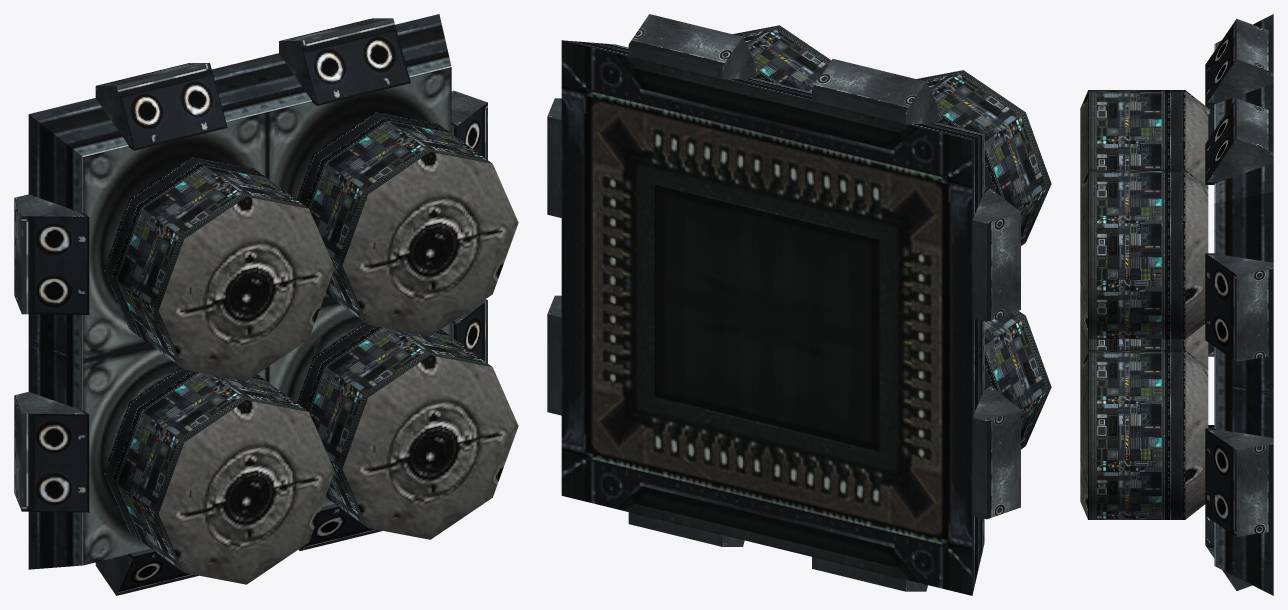
Rendered from Battery_wall_fixture_05.FBX.
3 views of the same model, side by side, from view 1: azimuth 30°, elevation 25°; view 2: azimuth 150°, elevation 25°; view 3: azimuth 270°, elevation 25° (orthographic). The views are drawn at different scales.
Visible parts, largest first — view 1: Battery_wall_fixture_05, Liquid; view 2: Battery_wall_fixture_05, Liquid; view 3: Battery_wall_fixture_05, Liquid.
Boxes of the visible parts, bbox=[...] form: Battery_wall_fixture_05: bbox=[14, 14, 518, 595]; Liquid: bbox=[117, 121, 486, 568]; Battery_wall_fixture_05: bbox=[547, 14, 1051, 595]; Liquid: bbox=[739, 29, 1046, 448]; Battery_wall_fixture_05: bbox=[1080, 14, 1273, 595]; Liquid: bbox=[1097, 90, 1161, 519].
Bounding box in the file's own units: 244 × 256 × 98.86.
